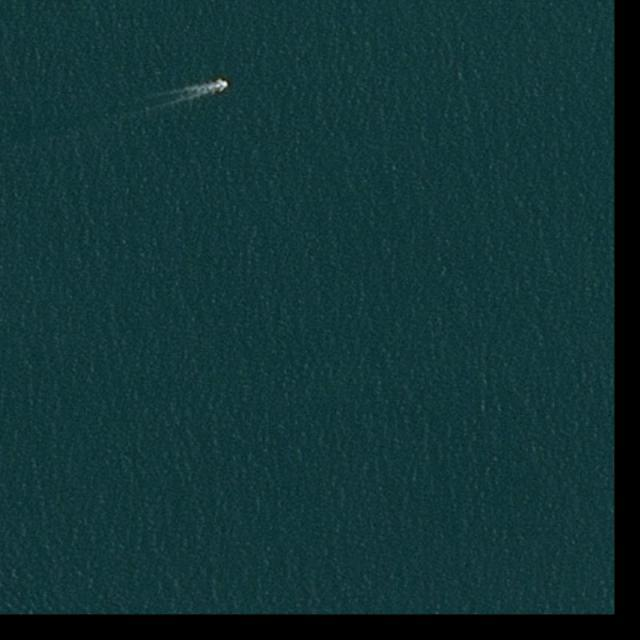ship: (214, 81, 227, 89)
